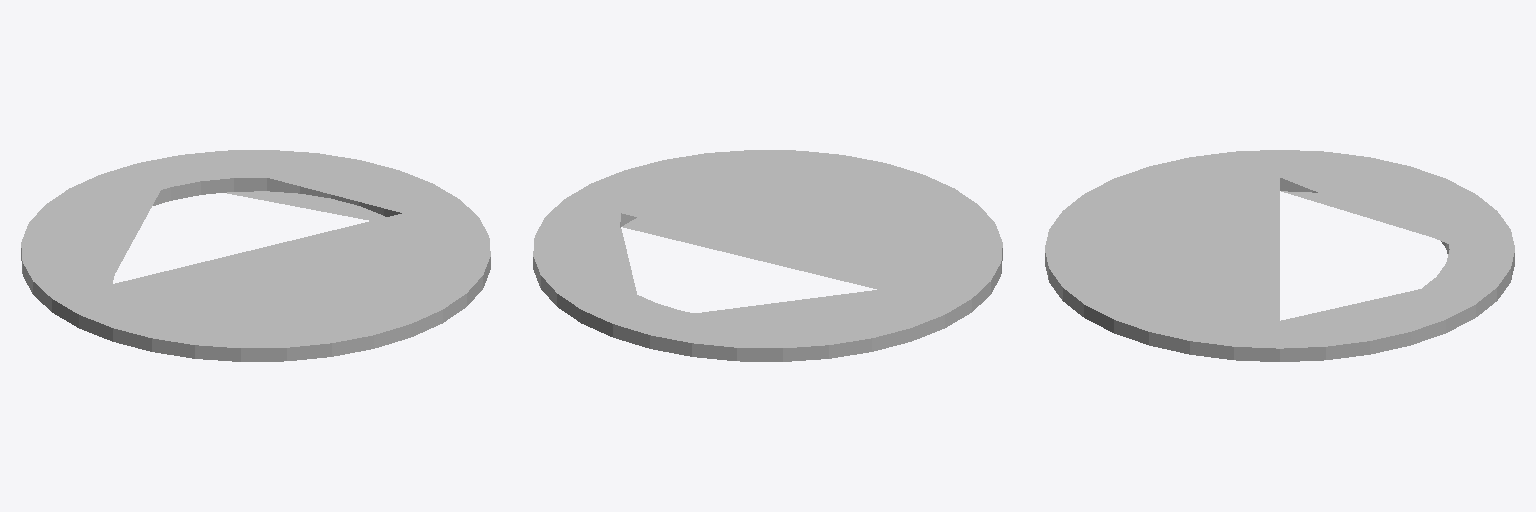
Rendered from ring.obj.
3 renders of one model, left to right at view 1: azimuth 30°, elevation 25°; view 2: azimuth 150°, elevation 25°; view 3: azimuth 270°, elevation 25°, orthographic.
Parts seen in each view (by area): view 1: Cylinder; view 2: Cylinder; view 3: Cylinder.
Boxes of the visible parts, <box> form: Cylinder: <box>21,150,490,361</box>; Cylinder: <box>533,150,1002,361</box>; Cylinder: <box>1045,150,1514,361</box>.
Size of the model in its own units: 2 by 0.0641 by 2.